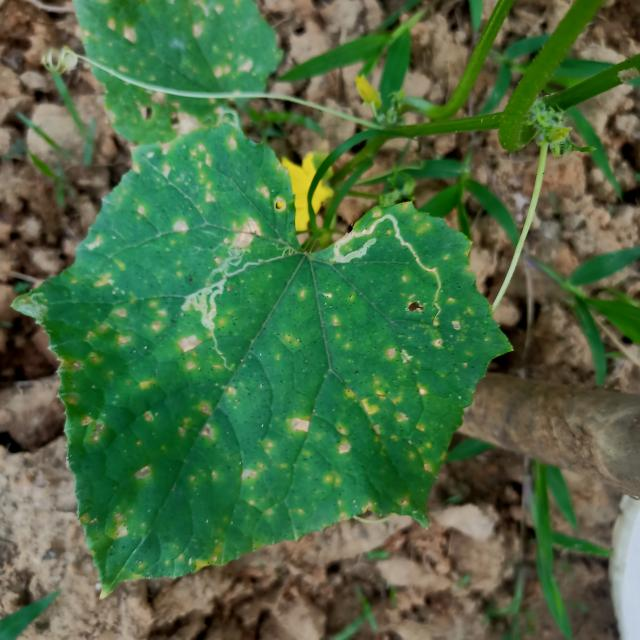disease_cucumber: (66, 152, 444, 559), (101, 4, 246, 142)
